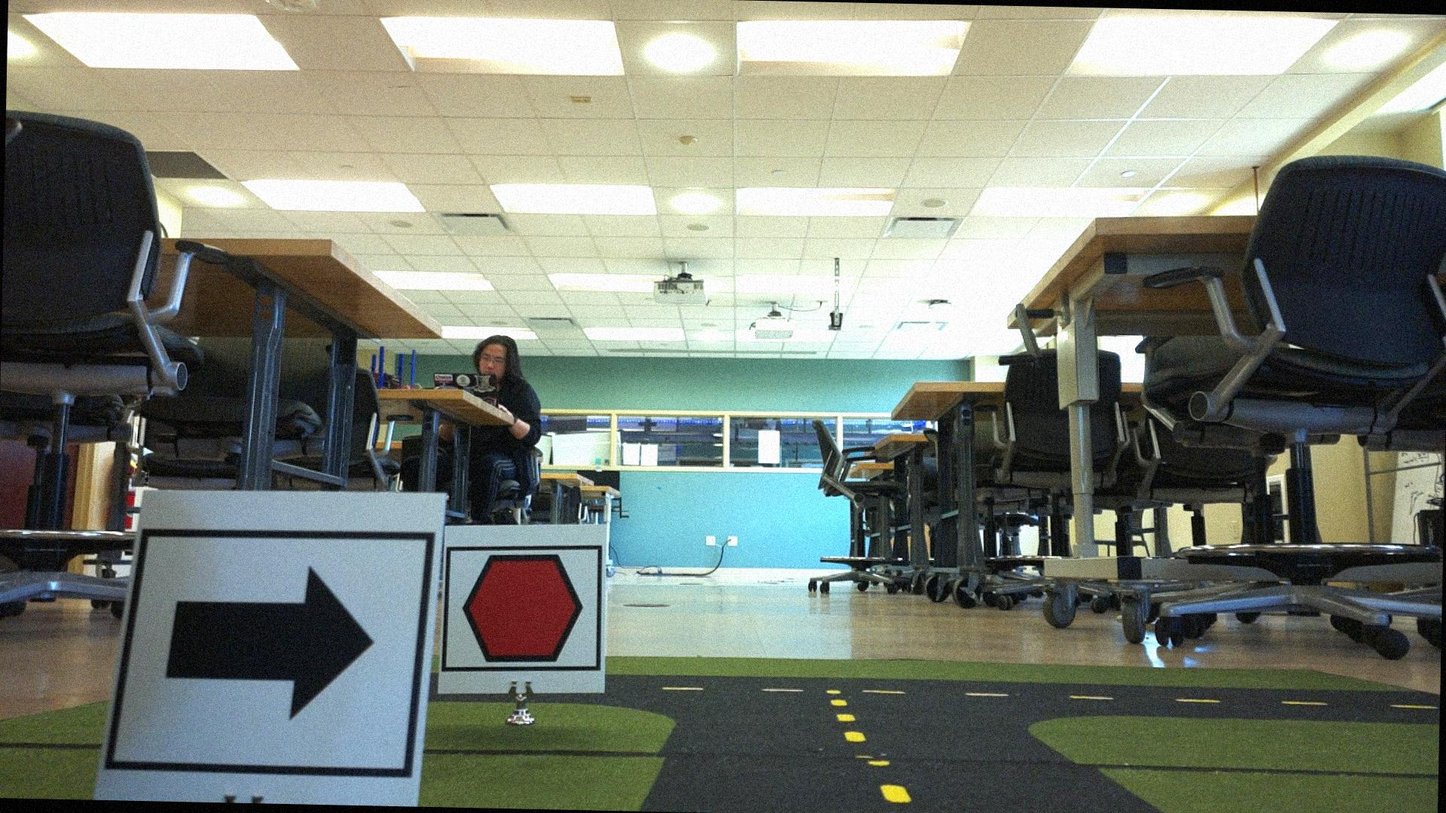stop: (448, 547, 596, 672)
turnright: (132, 534, 419, 775)
yellowline: (830, 696, 910, 804)
